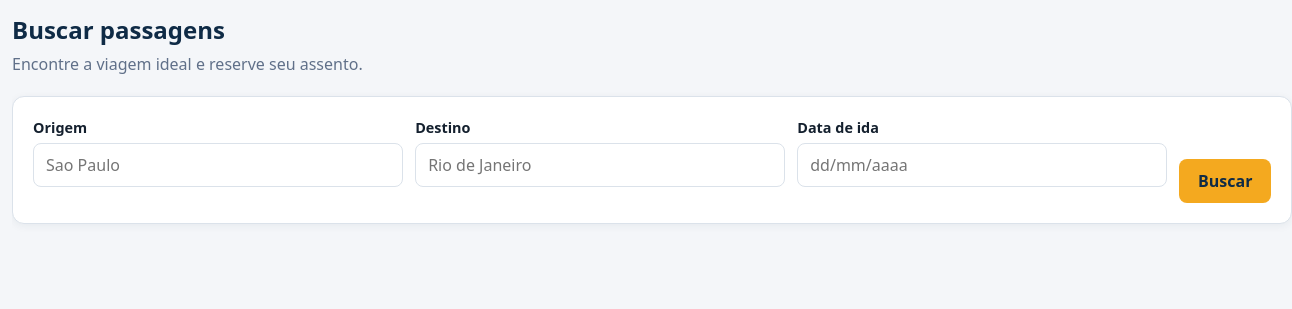
it: SearchPage › shows an error banner when the search fails
Click the button "Buscar" at (1225, 181), box 1179,159 -> 1271,203
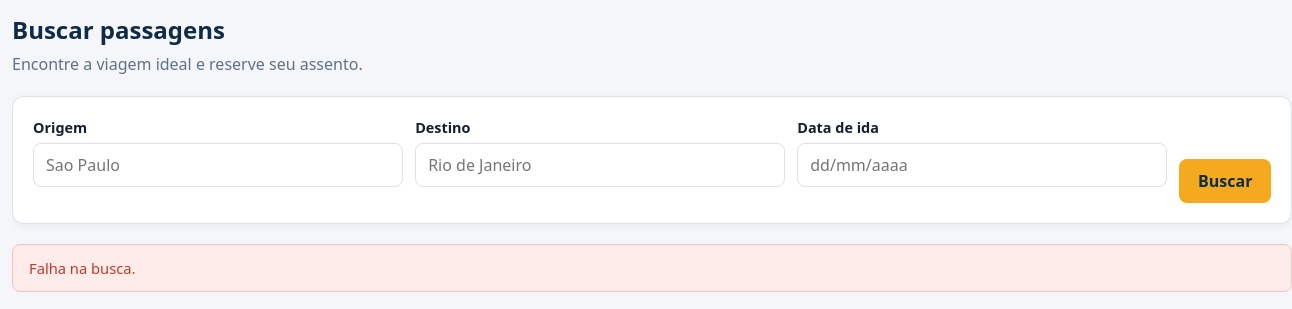
Result: the message reads "Falha na busca." at 29,258 -> 136,278
